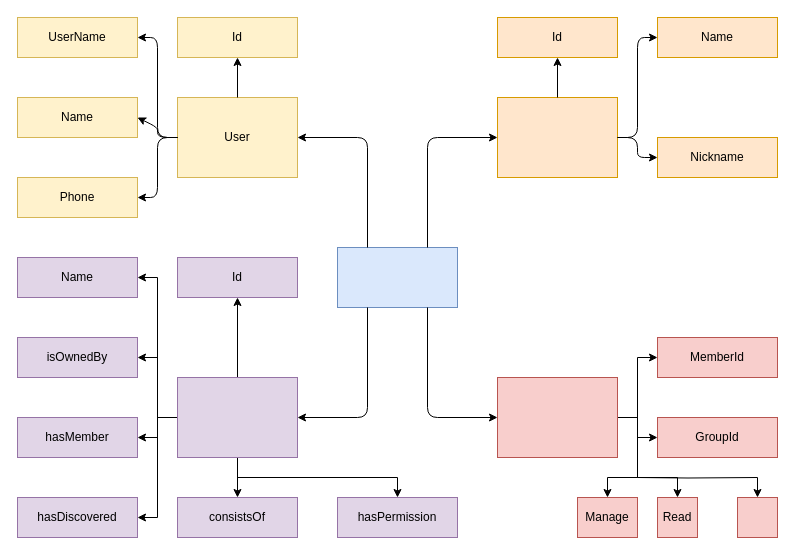
Some shapes in this 795 by 555 pixel diagram are drawn without their labels. Each missing label, with the centre of its shape:
"Device" goes at point 557,137.
"Group" goes at point 237,417.
"Permission" goes at point 557,417.
"Thing" goes at point 397,277.
"Write" goes at point 757,517.
